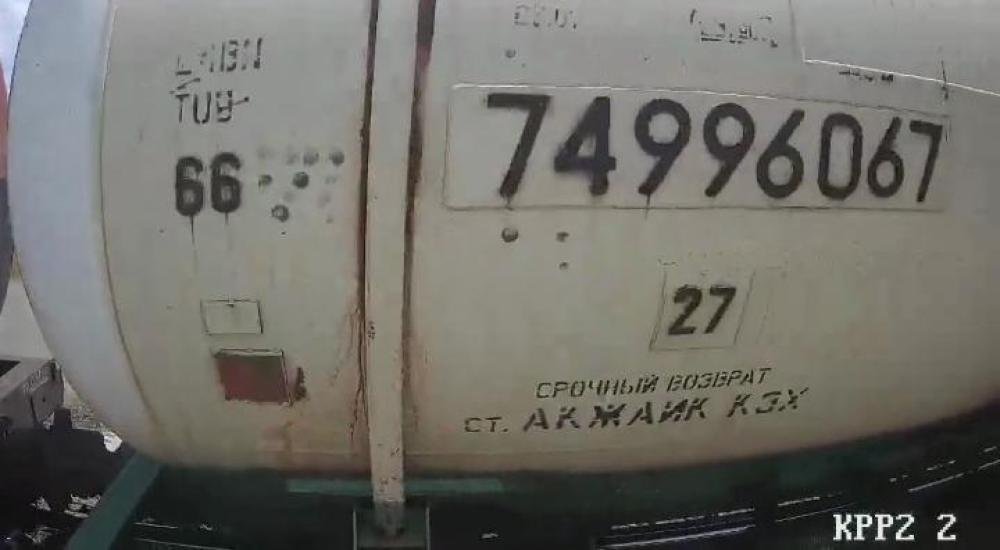Wagon-number: (478, 87, 950, 210)
